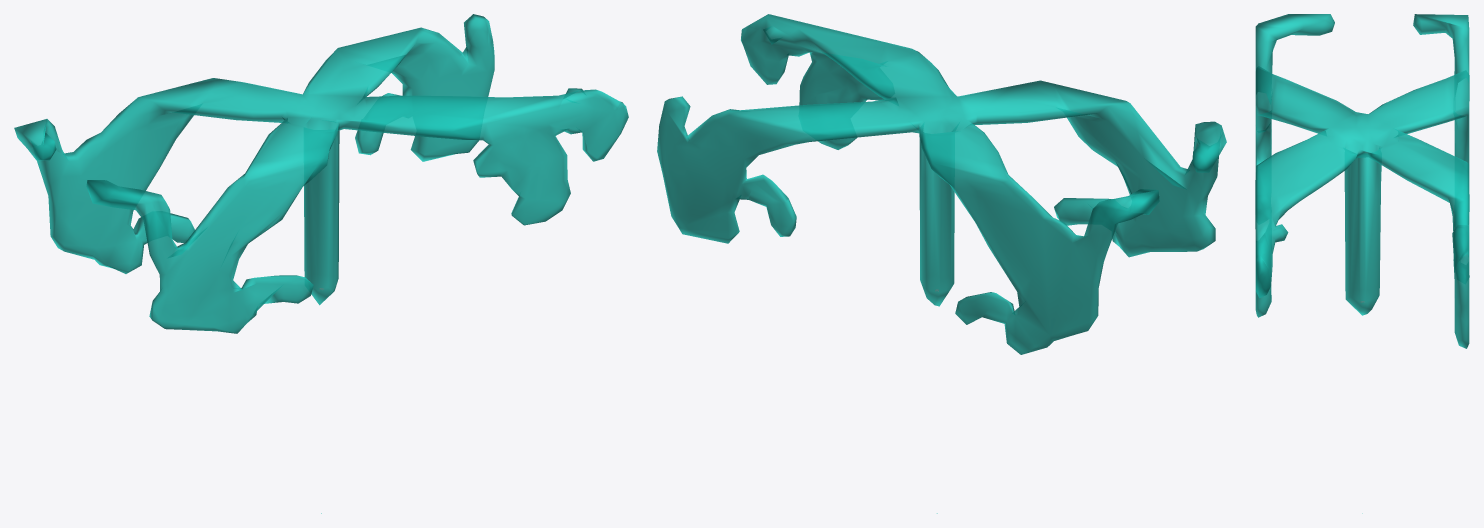
3 views of the same model, side by side, from view 1: azimuth 30°, elevation 25°; view 2: azimuth 150°, elevation 25°; view 3: azimuth 270°, elevation 25° (orthographic). The views are drawn at different scales.
Parts seen in each view (by area): view 1: Liquid_Domain; view 2: Liquid_Domain; view 3: Liquid_Domain.
Boxes of the visible parts, x1=… form: Liquid_Domain: x1=14, y1=14, x2=628, y2=333; Liquid_Domain: x1=657, y1=14, x2=1226, y2=354; Liquid_Domain: x1=1255, y1=14, x2=1469, y2=348.
Bounding box in the file's own units: 884 × 683 × 344.
